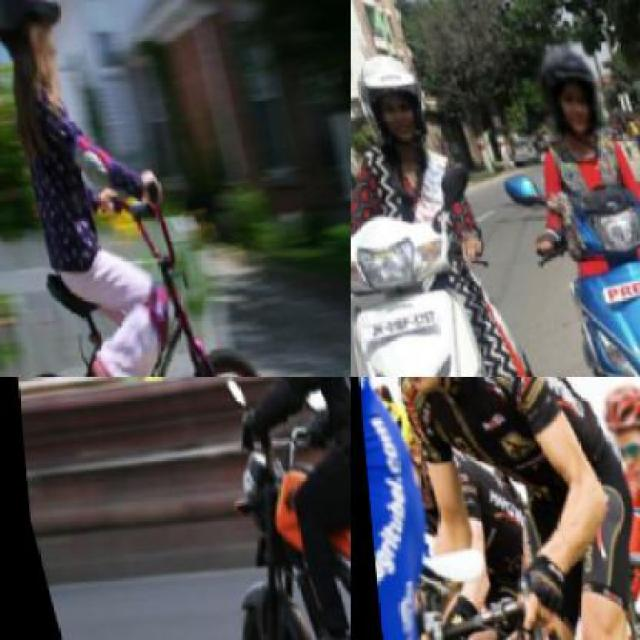With Helmet: (351, 42, 446, 169), (520, 27, 609, 142), (586, 377, 639, 497), (0, 0, 69, 66)
